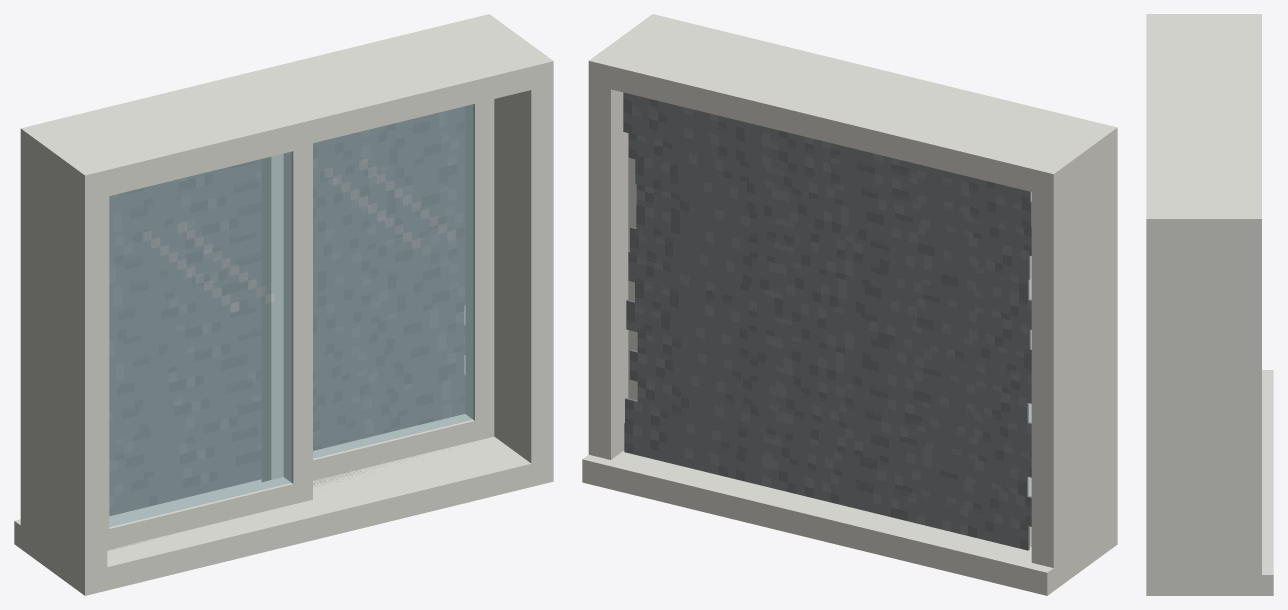
Rendered from t_window_no_curtains_taped.glb.
3 views of the same model, side by side, from view 1: azimuth 30°, elevation 25°; view 2: azimuth 150°, elevation 25°; view 3: azimuth 270°, elevation 25° (orthographic). The views are drawn at different scales.
Parts seen in each view (by area): view 1: block_slider-glass, block_fixed-glass, block_lintel, block_stile-1, block_sill, block_stile1, block_slider-r, block_fixed-r, block_tape7, block_tape10, block_tape4, block_tape6 (+14 smaller); view 2: block_lintel, block_stile-1, block_sill, block_stile1, block_tape0, block_tape5, block_tape8, block_tape13, block_tape11, block_tape1, block_tape2, block_tape7 (+8 smaller); view 3: block_stile1, block_lintel, block_sill, block_stile-1.
Boxes of the visible parts, <box> form: block_slider-glass: <box>109,152,291,526</box>; block_fixed-glass: <box>313,104,473,458</box>; block_lintel: <box>20,14,553,198</box>; block_stile-1: <box>20,123,107,595</box>; block_sill: <box>14,436,553,595</box>; block_stile1: <box>471,14,553,486</box>; block_slider-r: <box>283,143,312,501</box>; block_fixed-r: <box>465,99,494,437</box>; block_tape7: <box>109,227,465,342</box>; block_tape10: <box>109,152,465,267</box>; block_tape4: <box>109,301,464,415</box>; block_tape6: <box>109,252,465,366</box>; block_lintel: <box>588,14,1117,197</box>; block_stile-1: <box>1031,122,1117,590</box>; block_sill: <box>582,450,1117,595</box>; block_stile1: <box>588,15,673,459</box>; block_tape0: <box>624,423,1029,550</box>; block_tape5: <box>626,299,1028,426</box>; block_tape8: <box>630,226,1030,353</box>; block_tape13: <box>623,103,1031,230</box>; block_tape11: <box>635,155,1030,279</box>; block_tape1: <box>625,398,1031,526</box>; block_tape2: <box>637,377,1028,496</box>; block_tape7: <box>628,251,1031,378</box>; block_stile1: <box>1146,209,1261,595</box>; block_lintel: <box>1146,14,1261,239</box>; block_sill: <box>1146,370,1273,595</box>; block_stile-1: <box>1146,14,1261,23</box>.
Bounding box in the file's own units: 0.84 × 0.72 × 0.22.
Materials: 2 (2 with a texture image).
